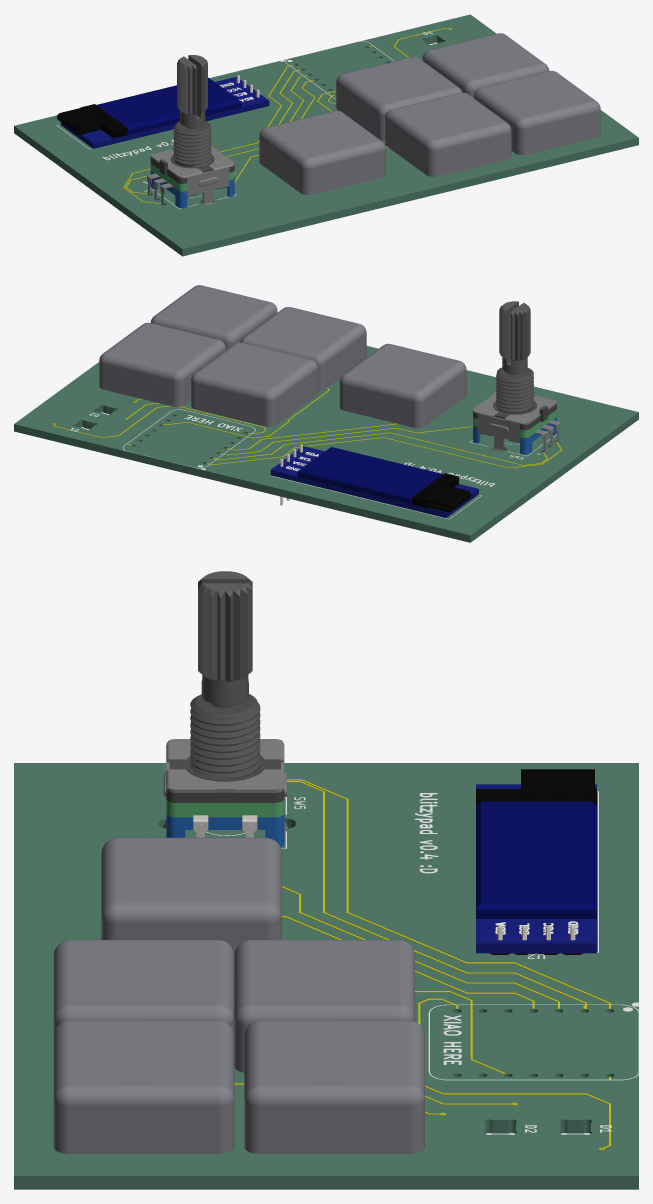
Rendered from Blitzypad.glb.
The picture shows the model from 3 angles, top to bottom: view 1: azimuth 30°, elevation 25°; view 2: azimuth 150°, elevation 25°; view 3: azimuth 270°, elevation 25°; orthographic projection. The views are drawn at different scales.
Visible parts, largest first — view 1: =>[0:1:1:10], SW6, SW3, SW5, SW4, U2, SW1, SW2, =>[0:1:1:6], =>[0:1:1:8]; view 2: =>[0:1:1:10], SW6, SW1, U2, SW2, SW5, SW3, SW4, =>[0:1:1:6], =>[0:1:1:8]; view 3: =>[0:1:1:10], SW4, SW2, U2, SW5, SW6, SW1, SW3, =>[0:1:1:6], =>[0:1:1:8].
Part boxes in pixels (x1=…): =>[0:1:1:10]: x1=14, y1=14, x2=638, y2=256; SW6: x1=259, y1=110, x2=385, y2=194; SW3: x1=385, y1=92, x2=511, y2=176; SW5: x1=147, y1=55, x2=235, y2=208; SW4: x1=474, y1=71, x2=600, y2=155; U2: x1=57, y1=75, x2=269, y2=148; SW1: x1=336, y1=57, x2=462, y2=141; SW2: x1=422, y1=33, x2=549, y2=98; =>[0:1:1:6]: x1=123, y1=28, x2=451, y2=203; =>[0:1:1:8]: x1=57, y1=31, x2=432, y2=208; =>[0:1:1:10]: x1=14, y1=346, x2=638, y2=542; SW6: x1=339, y1=343, x2=466, y2=427; SW1: x1=191, y1=342, x2=317, y2=426; U2: x1=270, y1=444, x2=478, y2=517; SW2: x1=99, y1=322, x2=225, y2=406; SW5: x1=472, y1=301, x2=560, y2=454; SW3: x1=240, y1=307, x2=366, y2=391; SW4: x1=150, y1=285, x2=277, y2=349; =>[0:1:1:6]: x1=52, y1=387, x2=561, y2=468; =>[0:1:1:8]: x1=70, y1=409, x2=556, y2=519; =>[0:1:1:10]: x1=14, y1=763, x2=638, y2=1189; SW4: x1=53, y1=1020, x2=234, y2=1153; SW2: x1=244, y1=1020, x2=424, y2=1153; U2: x1=476, y1=769, x2=596, y2=954; SW5: x1=163, y1=571, x2=288, y2=847; SW6: x1=101, y1=837, x2=281, y2=954; SW1: x1=234, y1=940, x2=414, y2=1072; SW3: x1=53, y1=940, x2=234, y2=1034; =>[0:1:1:6]: x1=234, y1=779, x2=610, y2=1150; =>[0:1:1:8]: x1=206, y1=791, x2=638, y2=1132.
Bounding box in the file's own units: 0.0976 × 0.0336 × 0.0624.
